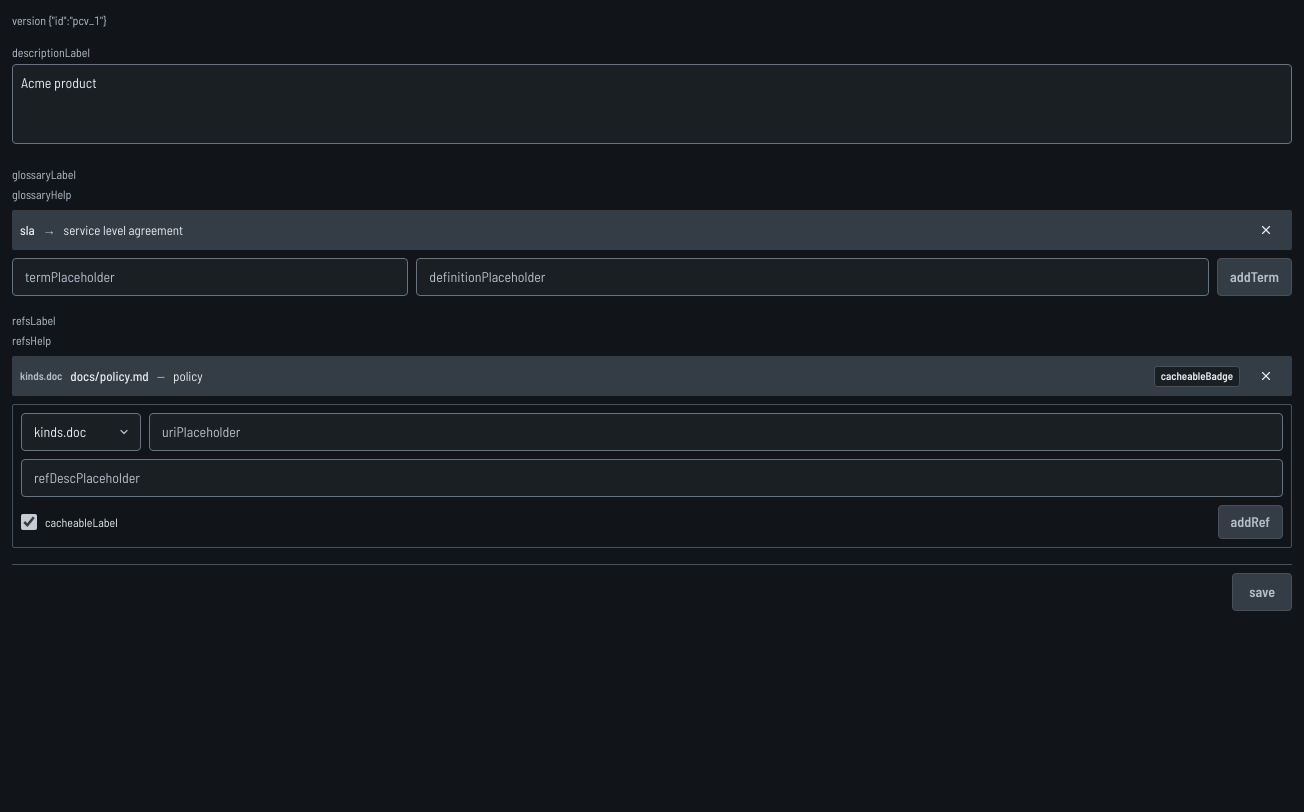
Scenario: ProjectContextEditor › renders existing knowledge refs and supports remove
Expected: the text "docs/policy.md" is shown, top-left (70, 367), bottom-right (149, 386)
Expected: the text "policy" is shown, top-left (173, 368), bottom-right (203, 384)
Click the button named "removeRef {\"uri\":\"docs/policy.md\"}" at (1266, 376), box top-left (1248, 364), bottom-right (1284, 388)
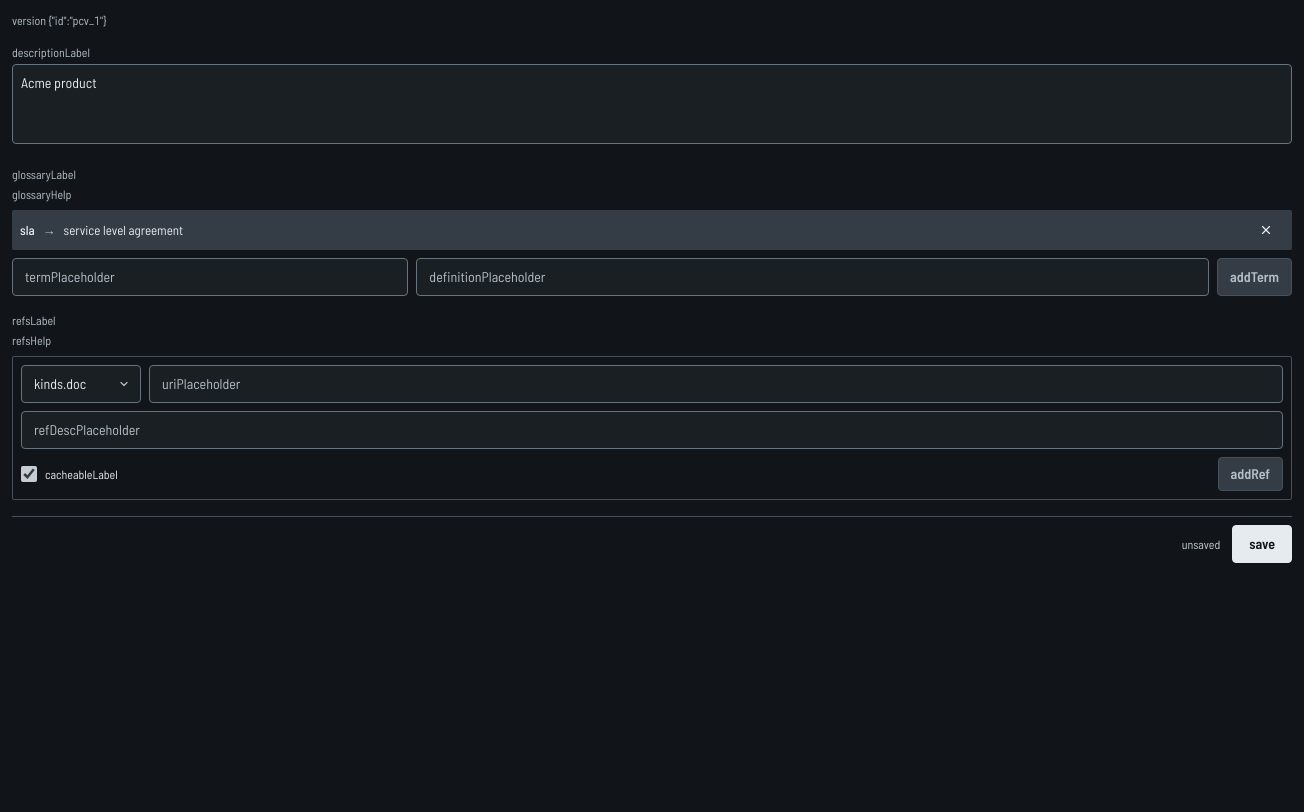
Result: the text "docs/policy.md" is gone
